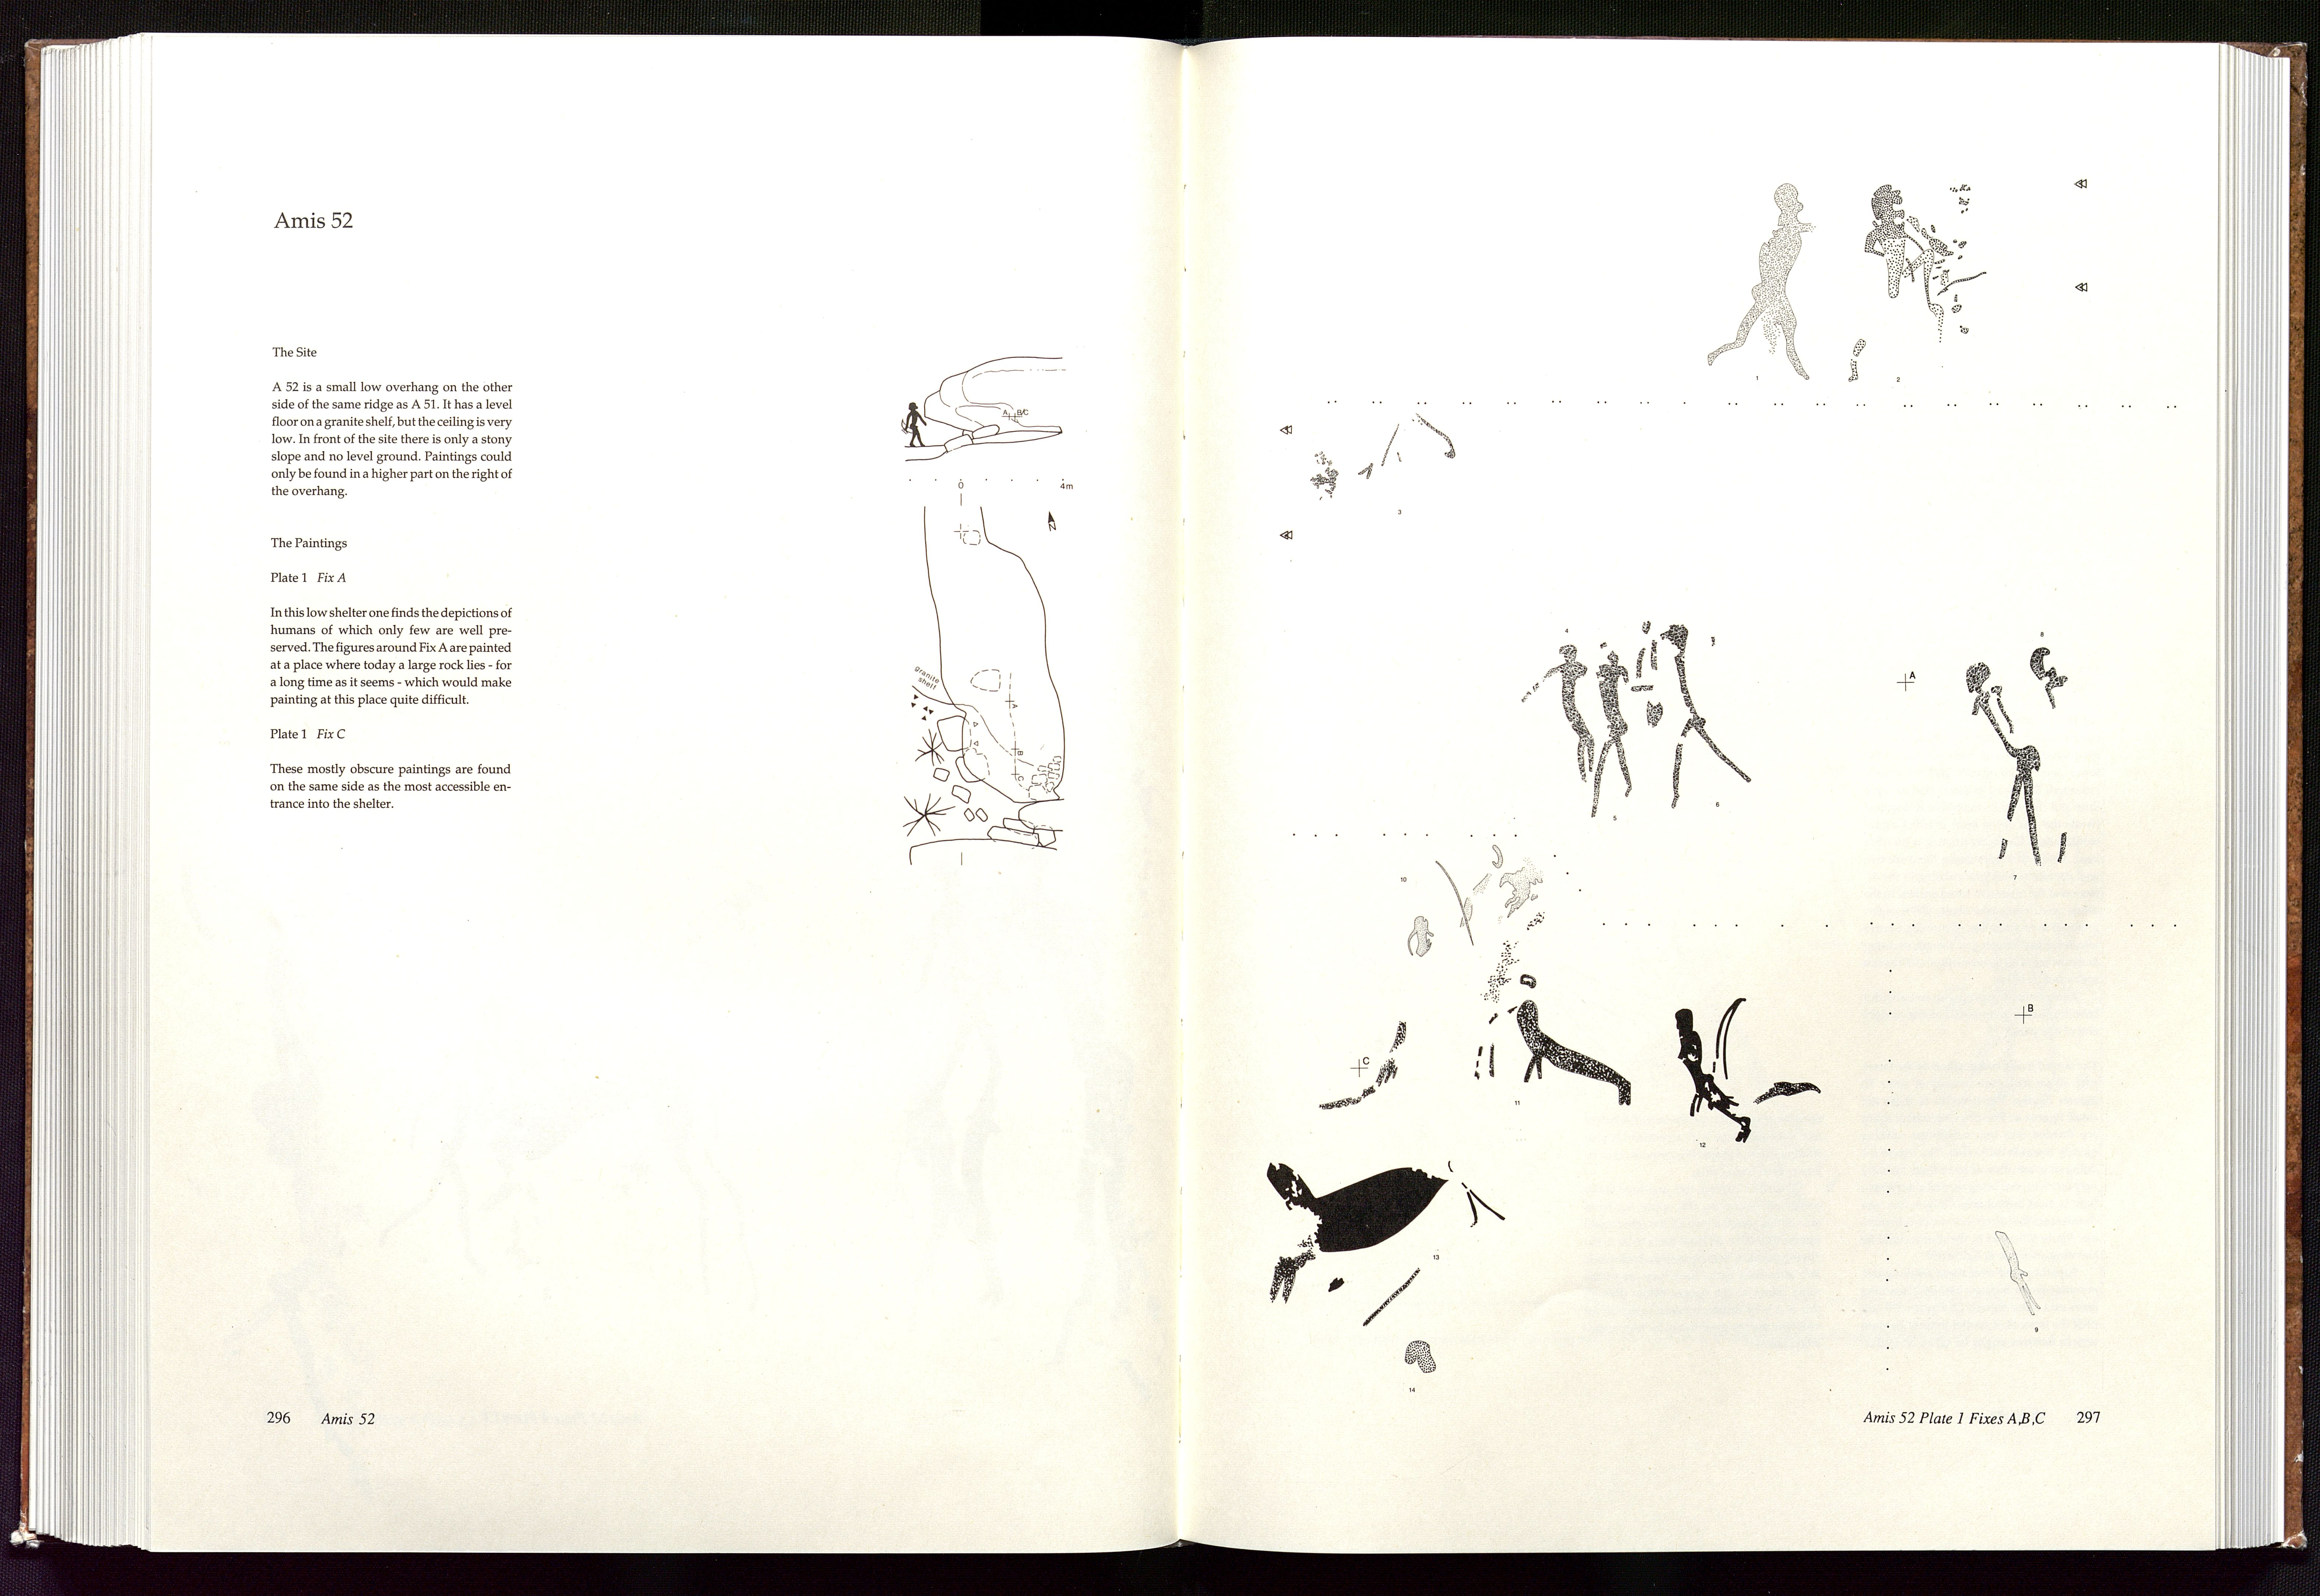human: (1698, 162, 1820, 387), (1844, 179, 1950, 393), (1956, 655, 2048, 874), (1658, 616, 1754, 811), (1512, 971, 1640, 1113), (1666, 1002, 1757, 1145), (1515, 639, 1599, 783), (2026, 641, 2078, 866), (1589, 637, 1634, 824), (1628, 615, 1667, 734)
